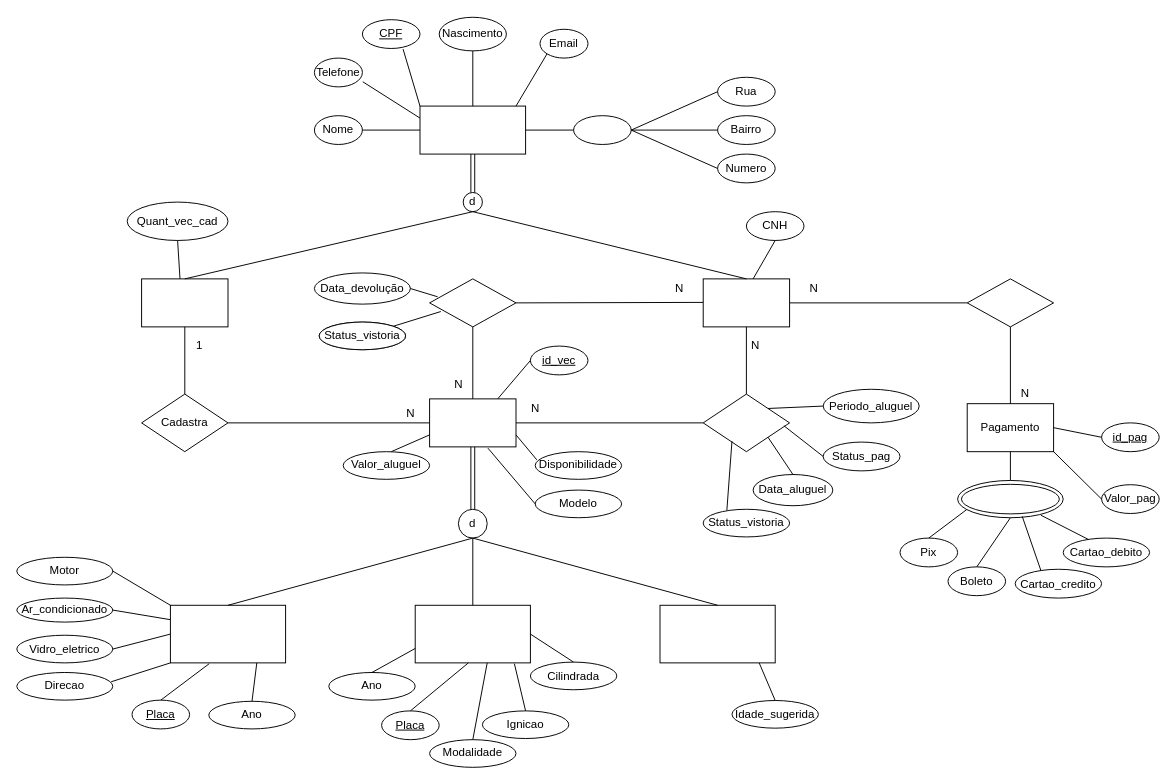
Image size: 1176x784. Some labels were removed from this diagram. Here are the shapes that lost their labels. From the top down, the centre of each, then its label:
the point at 472,129: Usuario
the point at 602,129: Endereco
the point at 184,302: Locador
the point at 472,302: Devolve
the point at 746,302: Locatario
the point at 1010,302: Realiza
the point at 472,422: Veículo
the point at 746,422: Aluga
the point at 1010,499: Tipo_pagamento
the point at 227,633: Carro
the point at 472,633: Moto
the point at 717,633: Não_motorizados
